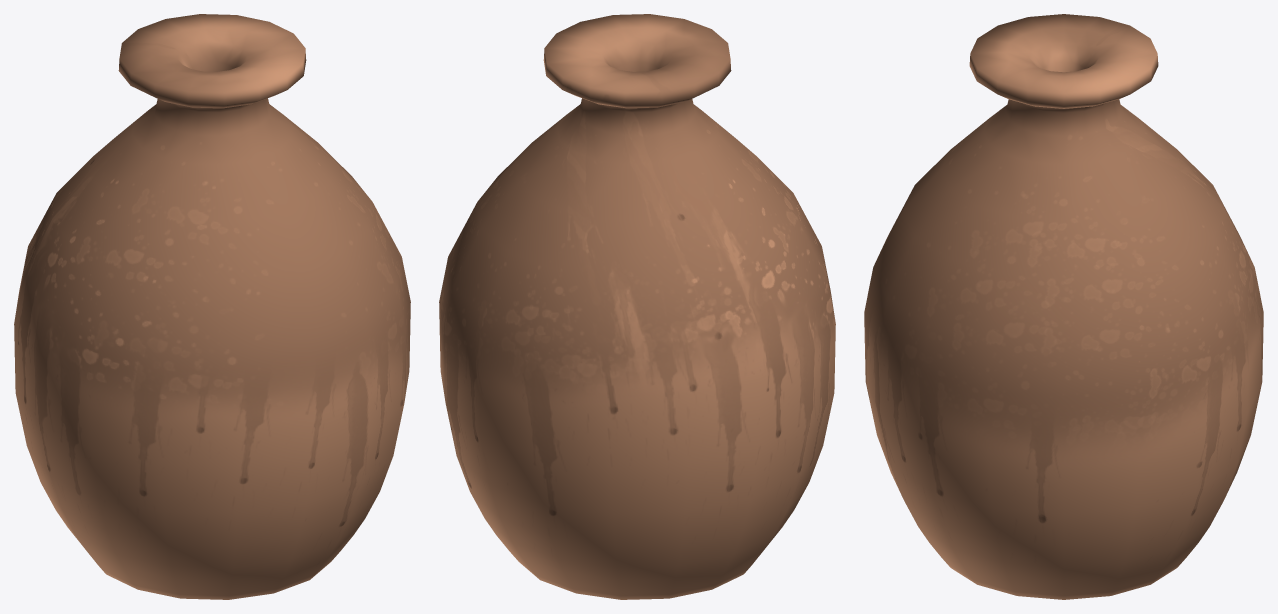
File: SM_Mado_PotteryE.fbx
3 renders of one model, left to right at view 1: azimuth 30°, elevation 25°; view 2: azimuth 150°, elevation 25°; view 3: azimuth 270°, elevation 25°, orthographic.
Parts seen in each view (by area): view 1: SM_Mado_PotteryE; view 2: SM_Mado_PotteryE; view 3: SM_Mado_PotteryE.
Part boxes in pixels (bbox=[...]): SM_Mado_PotteryE: bbox=[14, 14, 410, 599]; SM_Mado_PotteryE: bbox=[439, 14, 835, 599]; SM_Mado_PotteryE: bbox=[864, 14, 1263, 599].
Size of the model in its own units: 15.84 by 15.84 by 22.33.
1 material, 1 textured.
